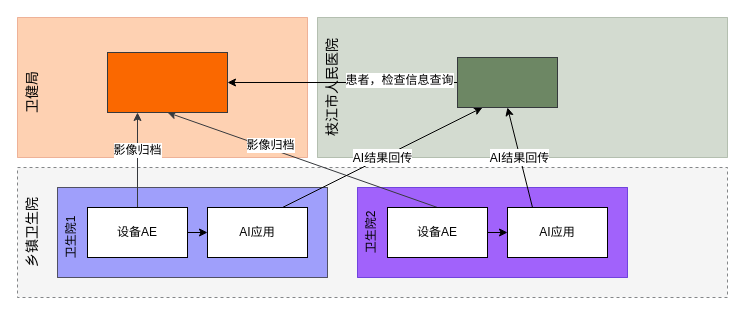
This 745x315 diagram has some shape labels left out. The centre of each missing label's shape, as x and y in pixels:
卫健局PACS: point 167,82
危急告警平台: point 507,82
